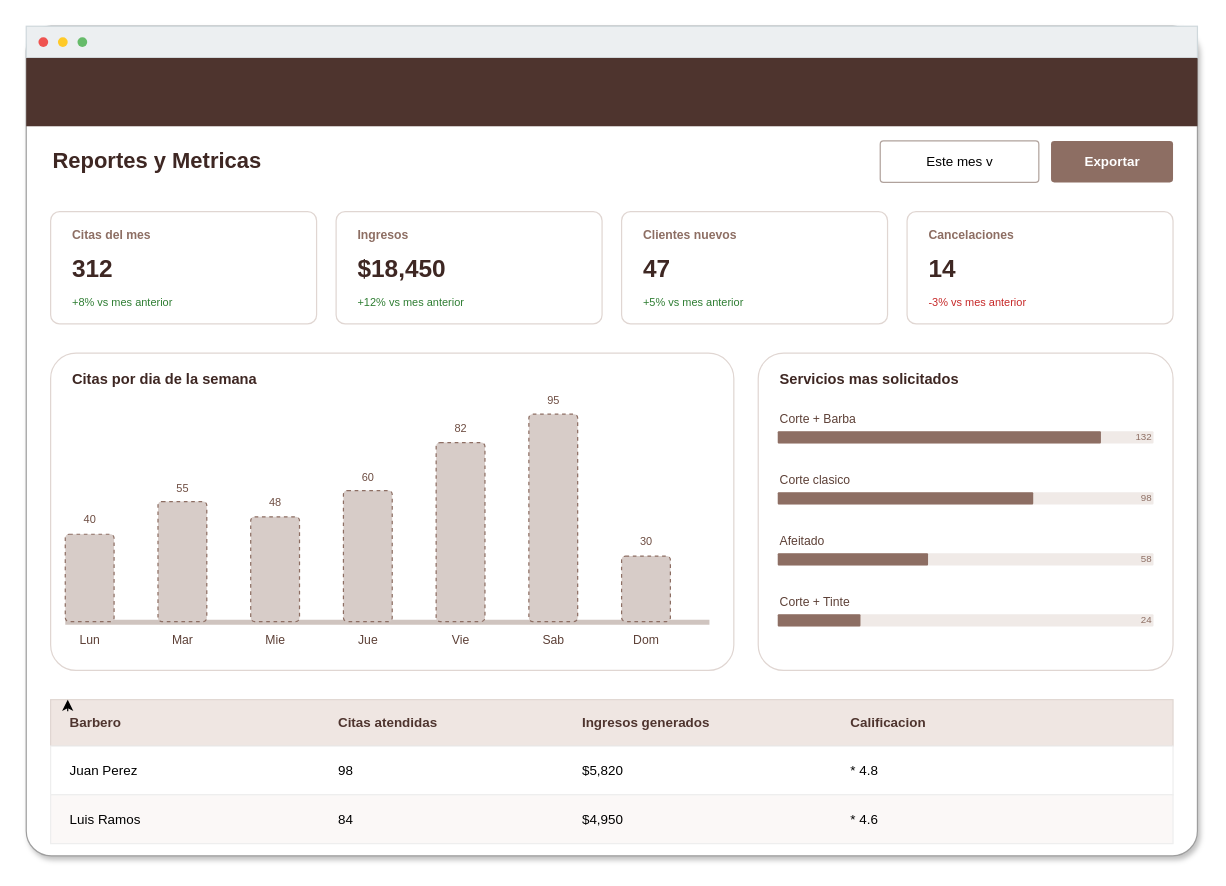
The diagram is 1226 pixels wide and 886 high, and some of its shapes have lost their labels. The shapes that lost their labels are listed below. From the top down, each one's centre as x and y in pixels, then its label:
At point 611,41: "BarberLosPeluchitos - Panel Administrador / reportes".
At point 611,91: "BarberLosPeluchitos".
